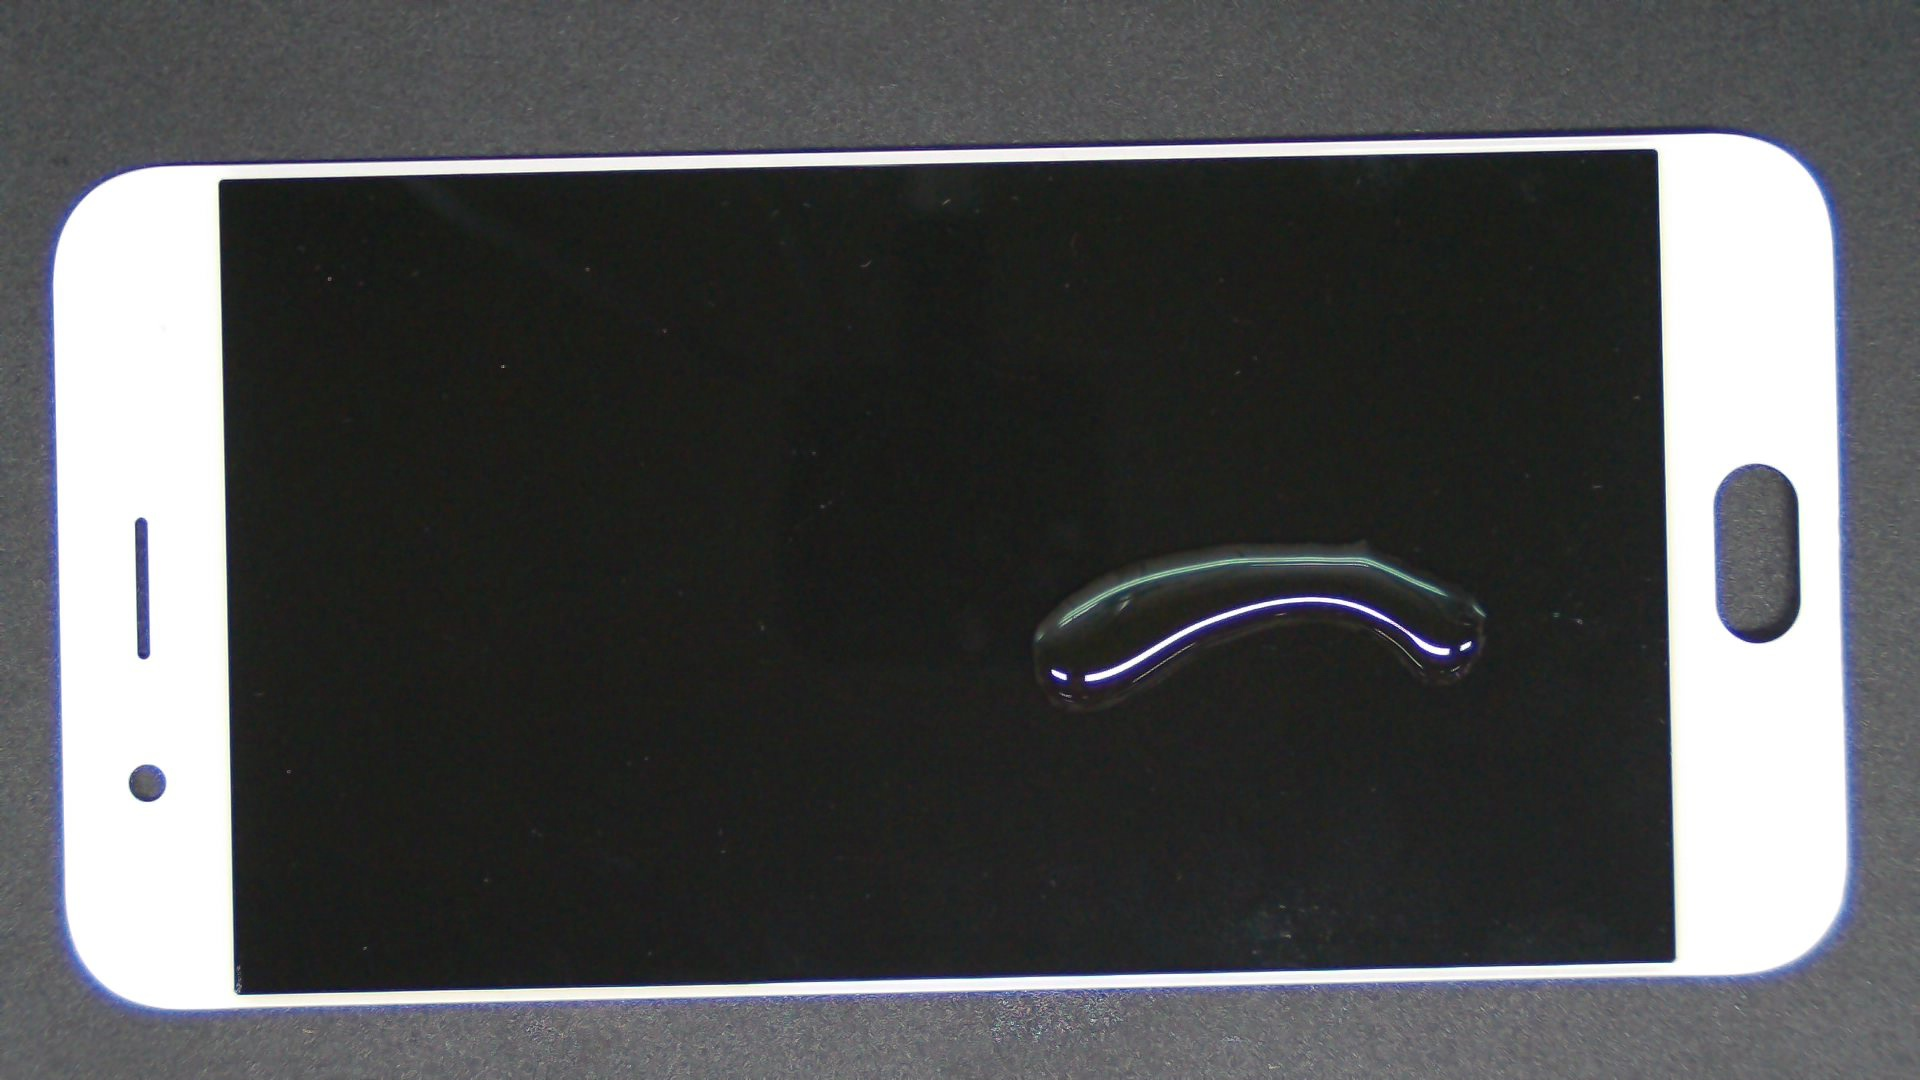oil: (682, 269, 1920, 808)
